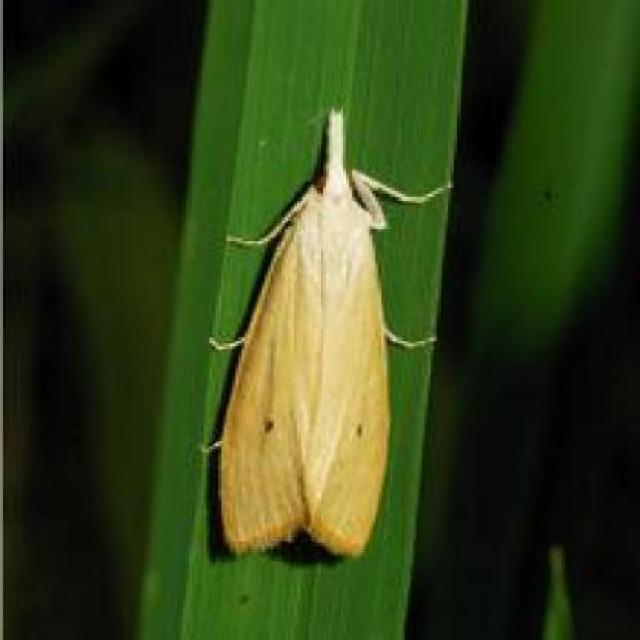stem-borer: (209, 100, 406, 566)
